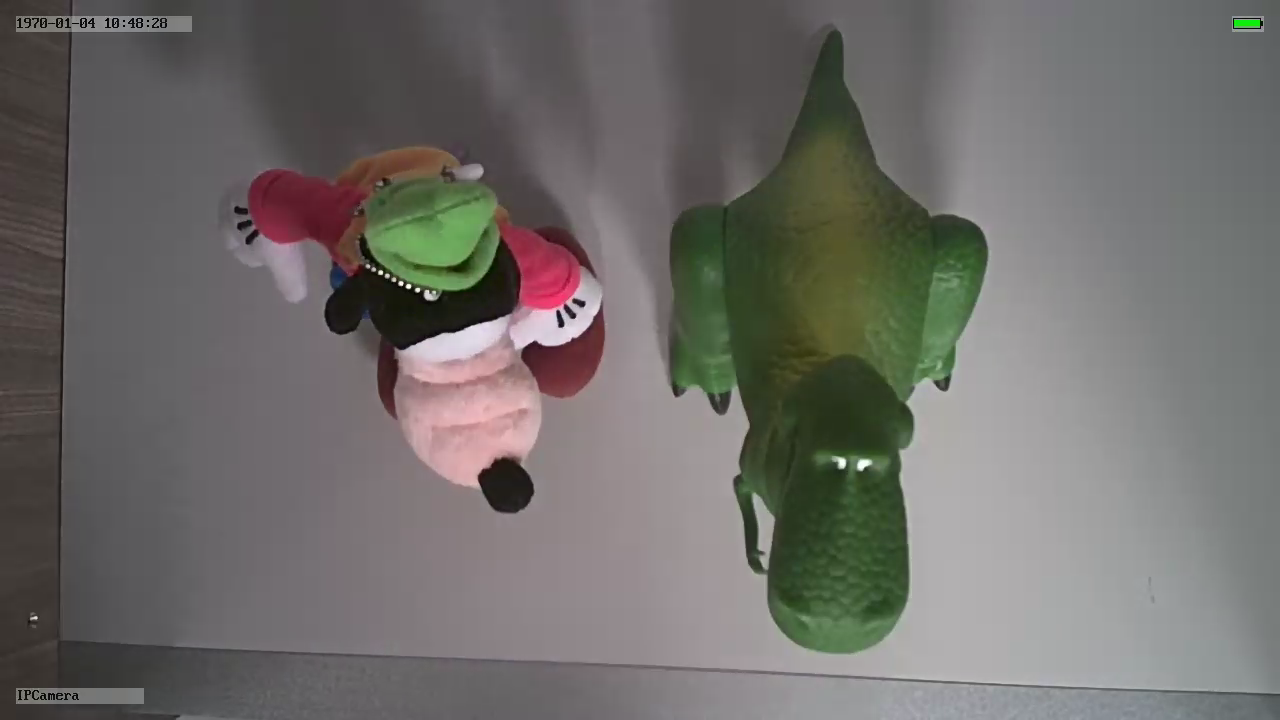goofy: (218, 142, 611, 524)
